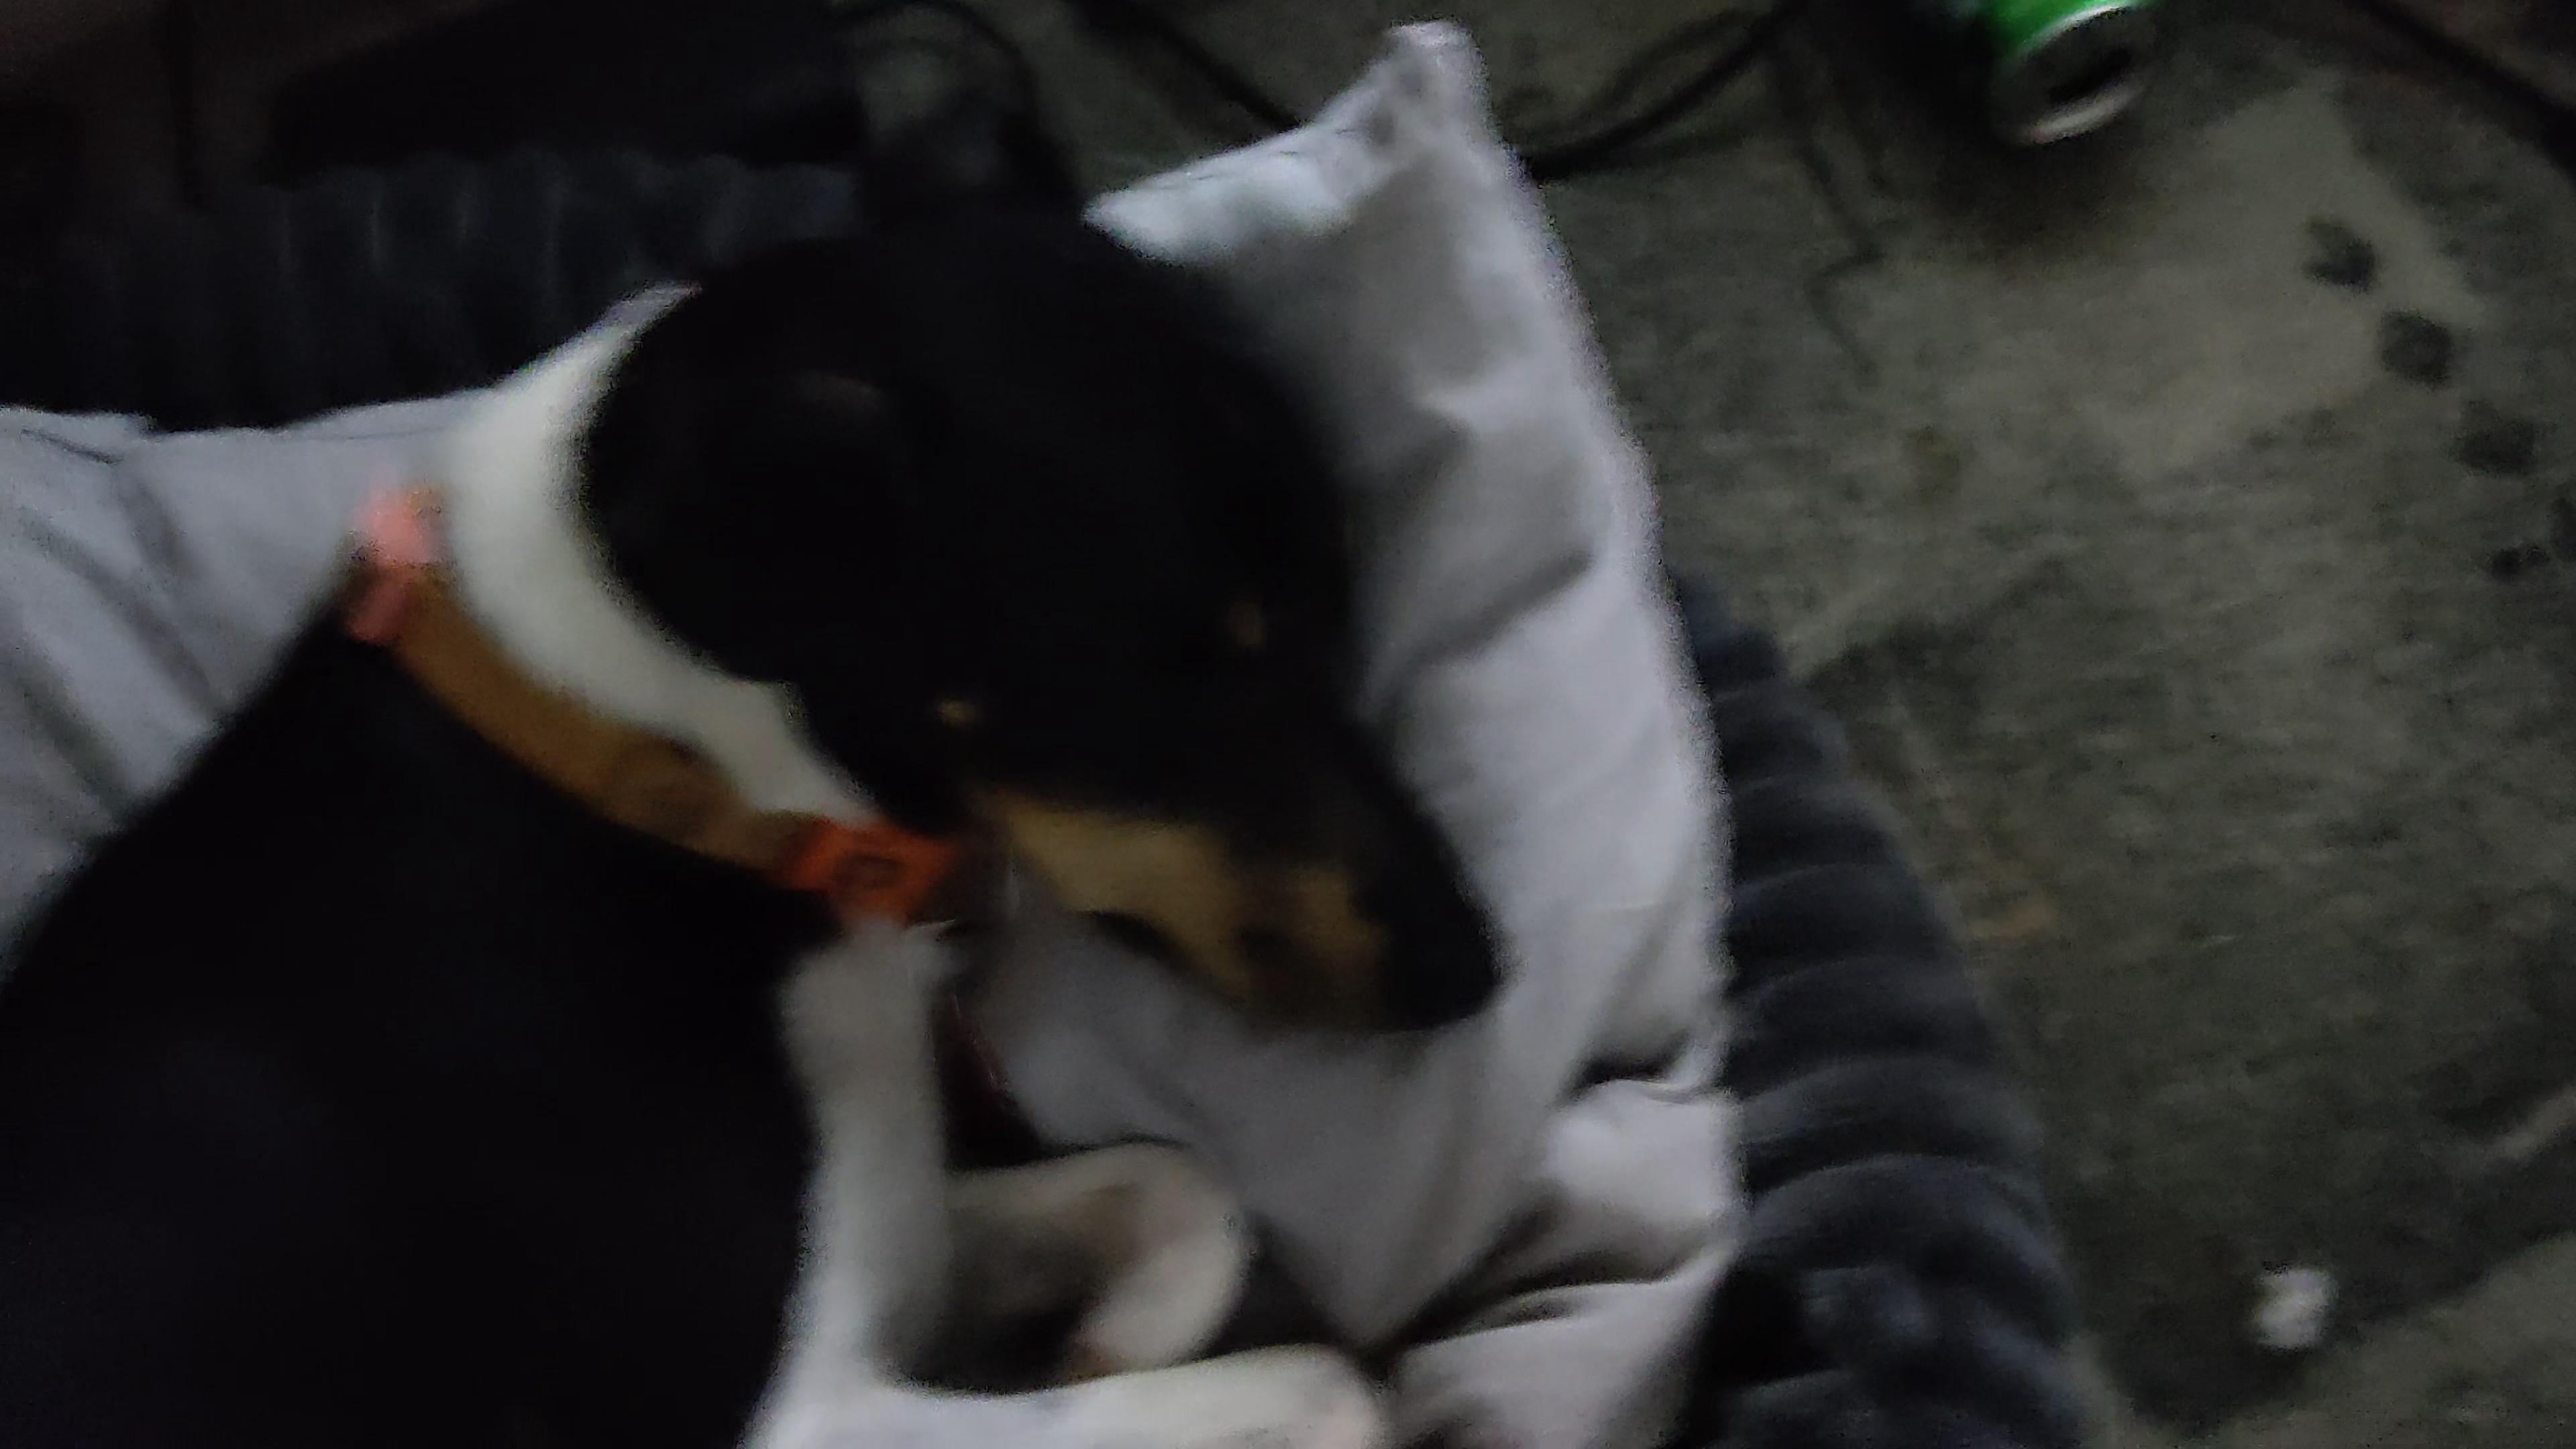Dog: (0, 0, 1552, 1449)
